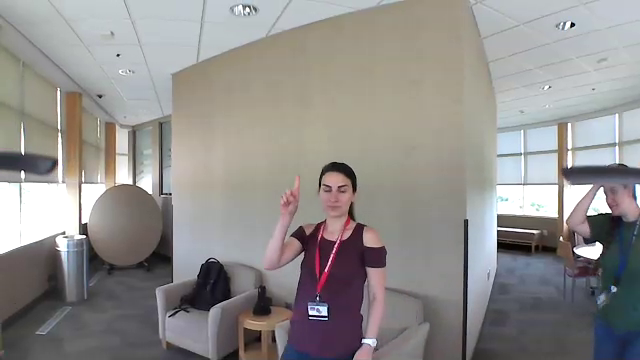up: (276, 170, 305, 221)
